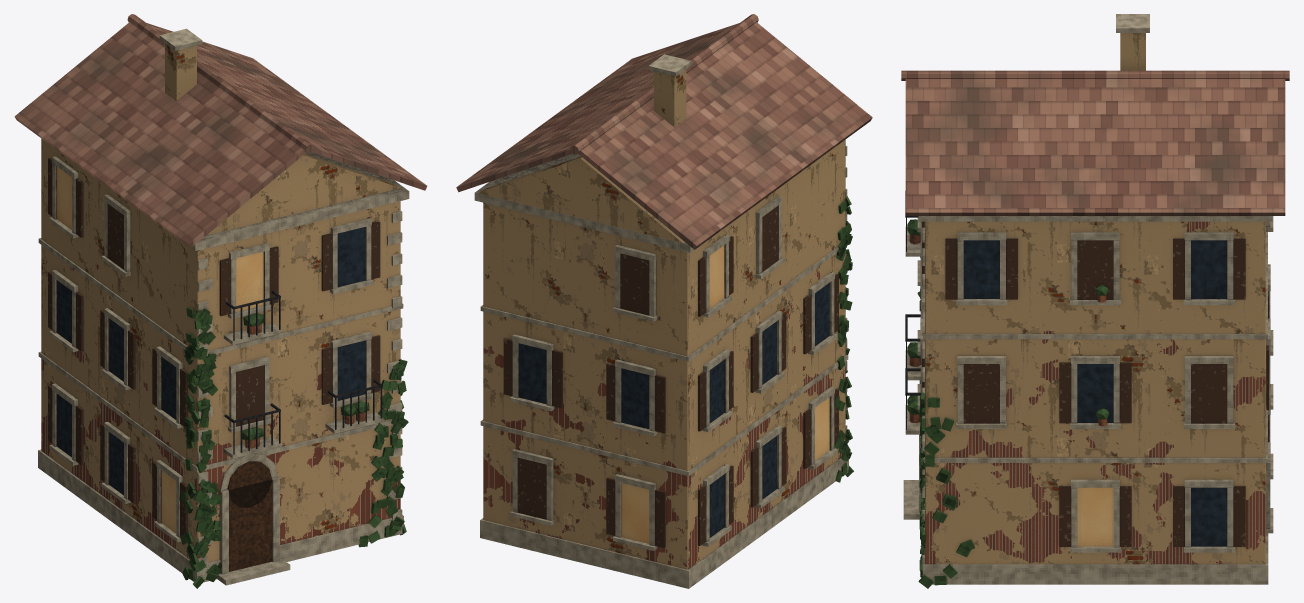
The model's file is siracusa_house_b.glb.
3 renders of one model, left to right at view 1: azimuth 30°, elevation 25°; view 2: azimuth 150°, elevation 25°; view 3: azimuth 270°, elevation 25°, orthographic. The views are drawn at different scales.
Parts seen in each view (by area): view 1: siracusa_house_b; view 2: siracusa_house_b; view 3: siracusa_house_b.
Part boxes in pixels (<box>): siracusa_house_b: <box>14,14,427,588</box>; siracusa_house_b: <box>456,14,872,588</box>; siracusa_house_b: <box>901,14,1289,588</box>.
Size of the model in its own units: 7.04 by 12.98 by 9.1.
Materials: 10 (10 with a texture image).
